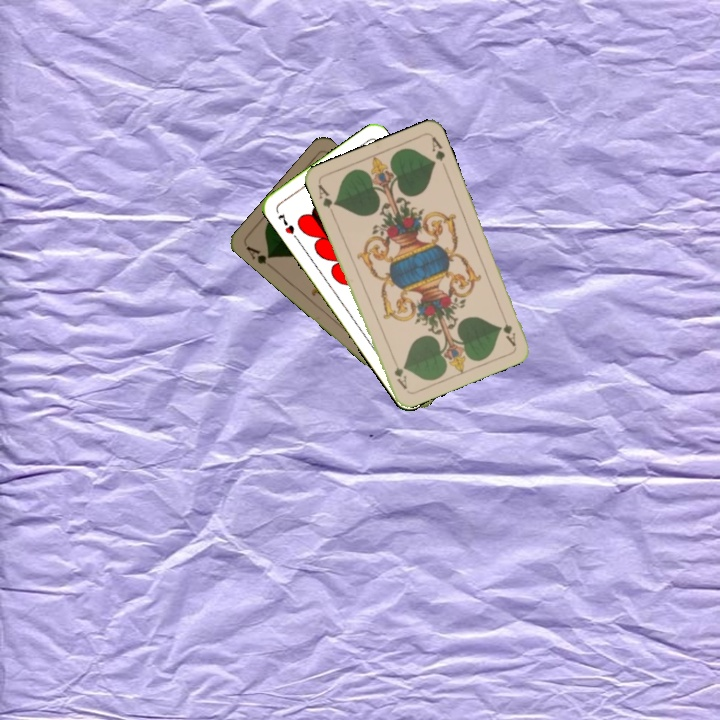GA: (314, 180, 339, 218), (497, 309, 518, 349), (242, 241, 274, 267)
H7: (274, 209, 297, 237)
